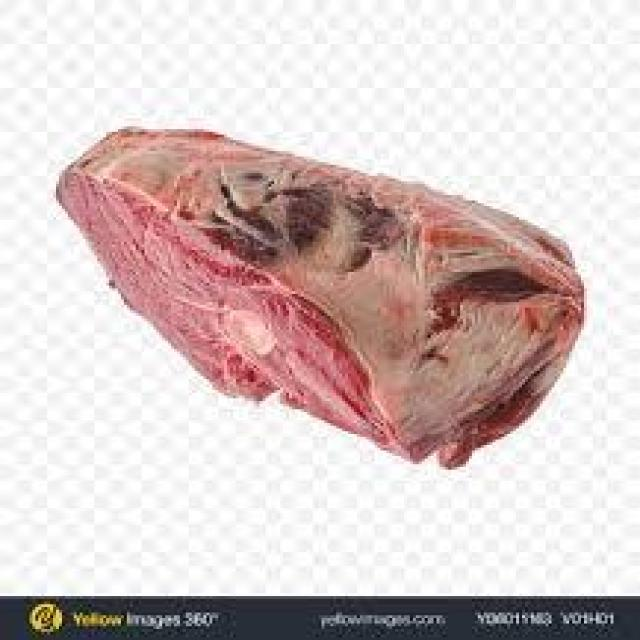Wet Waste: (50, 108, 581, 495)
